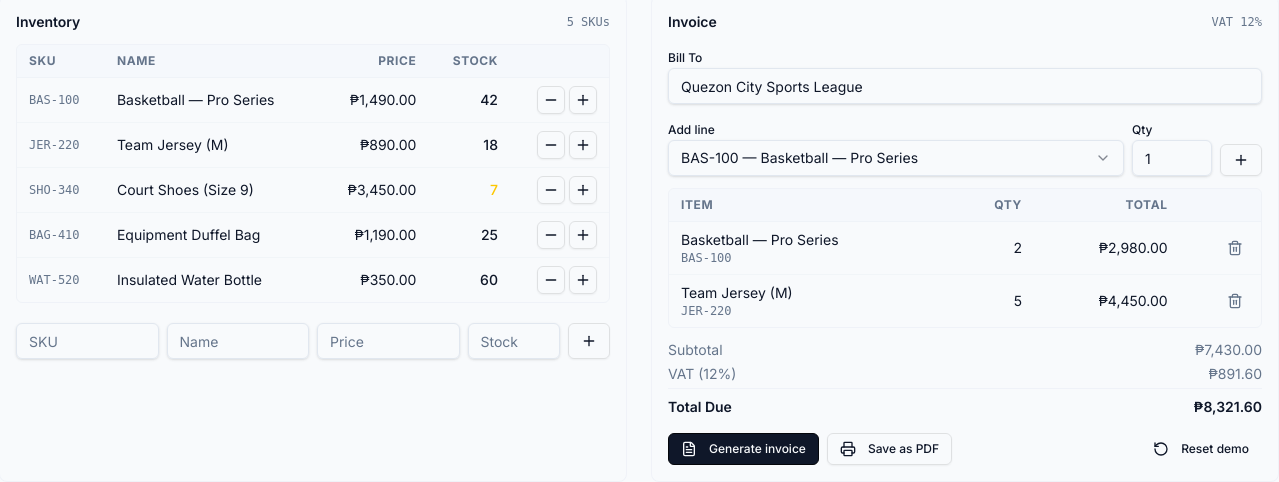
it: ErpDemo (component) › stock + and − buttons adjust the displayed stock
Expected: the text "42" is shown, [428,78,510,122]
Increase by one
Click the button named "Increase stock for Basketball — Pro Series".
click(583, 100)  # box [569,86,597,114]
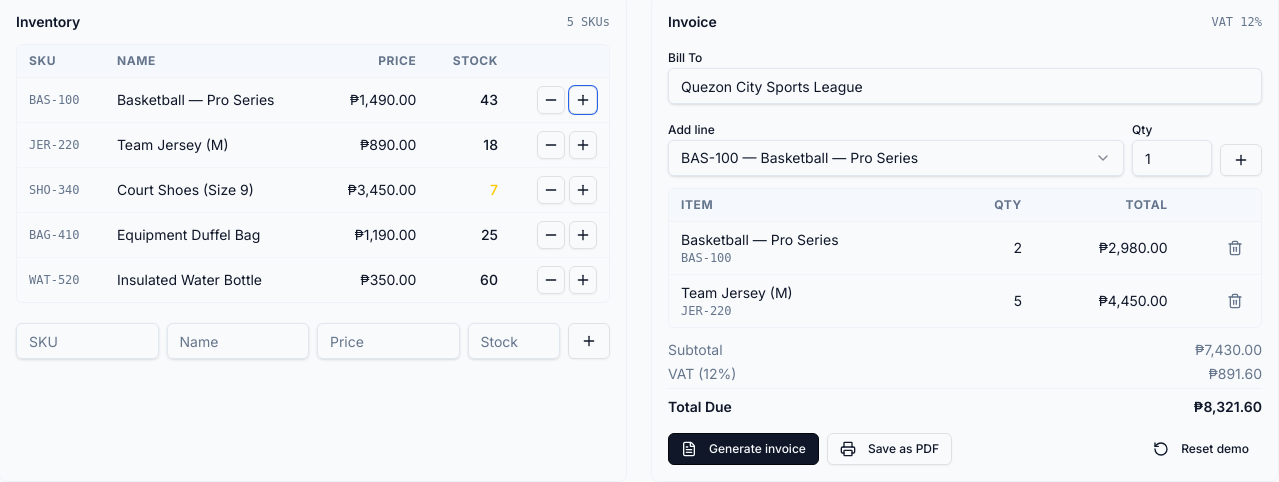
Expected: the text "43" is shown, [428,78,510,122]
Decrease back
Click the button named "Decrease stock for Basketball — Pro Series".
click(551, 100)  # box [537,86,565,114]
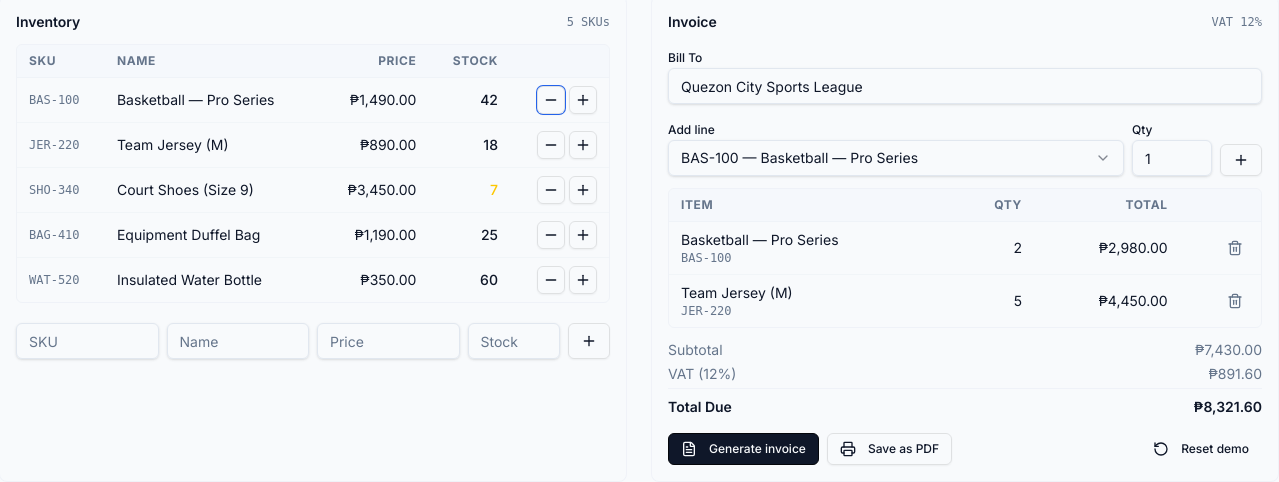
Expected: the text "42" is shown, [428,78,510,122]
